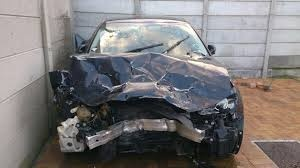Smashed: (50, 49, 243, 160)
